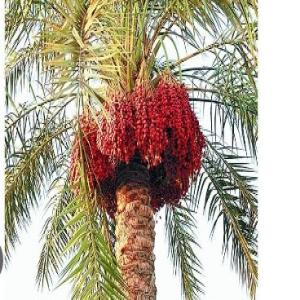palm tree: (3, 0, 258, 299)
